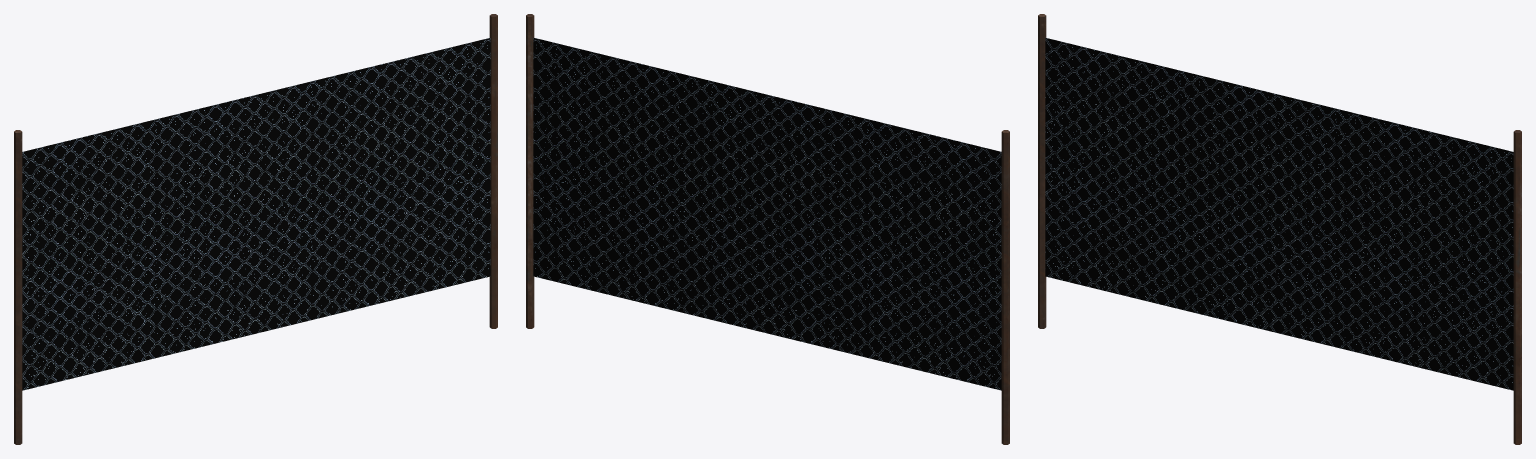
The model's file is Urban_MetalfenceBothSidesNoTopbar_Model.fbx.
3 renders of one model, left to right at view 1: azimuth 30°, elevation 25°; view 2: azimuth 150°, elevation 25°; view 3: azimuth 330°, elevation 25°, orthographic.
Parts seen in each view (by area): view 1: Urban_MetalfenceBothSidesNoTopbar_Mesh; view 2: Urban_MetalfenceBothSidesNoTopbar_Mesh; view 3: Urban_MetalfenceBothSidesNoTopbar_Mesh.
Part boxes in pixels (bbox=[...]): Urban_MetalfenceBothSidesNoTopbar_Mesh: bbox=[14, 14, 497, 444]; Urban_MetalfenceBothSidesNoTopbar_Mesh: bbox=[526, 14, 1009, 444]; Urban_MetalfenceBothSidesNoTopbar_Mesh: bbox=[1038, 14, 1521, 444].
Size of the model in its own units: 2.7 by 1.67 by 0.04.
